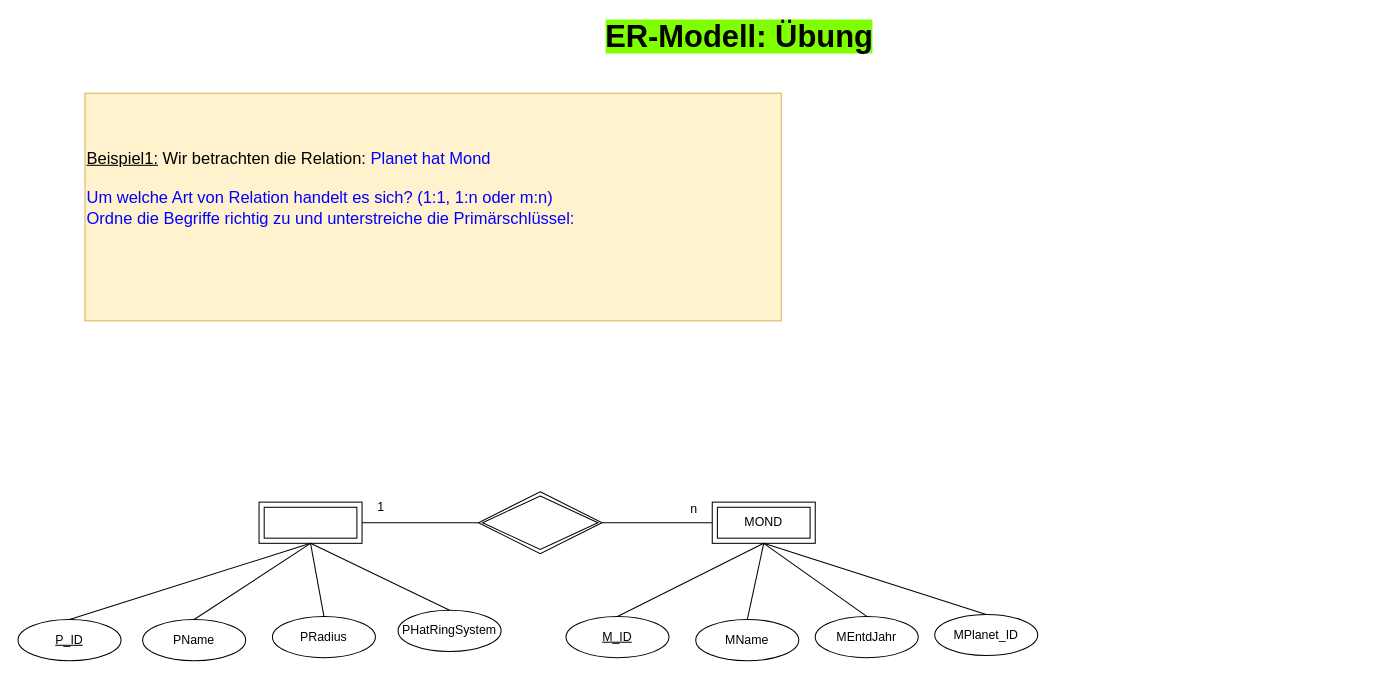
The diagram is 1383 pixels wide and 679 high, and some of its shapes have lost their labels. Each missing label, with the centre of its shape:
hat: point (539, 522)
PLANET: point (310, 522)
